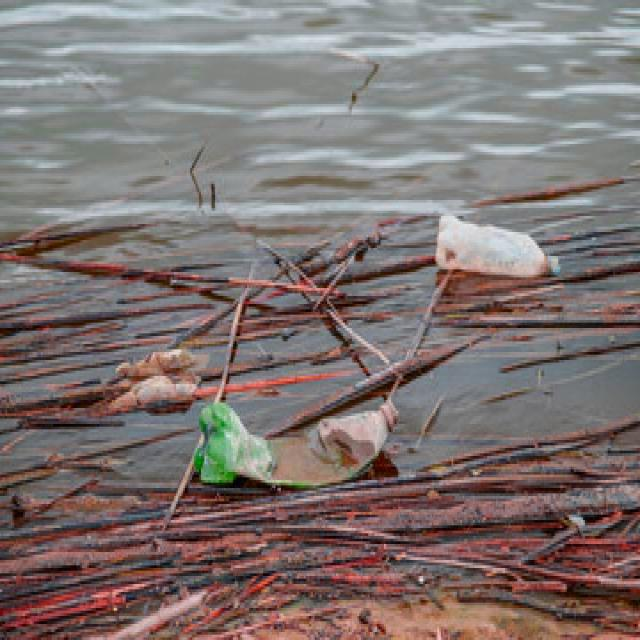Plastic: (193, 395, 410, 496), (430, 208, 565, 286)
Trash: (104, 336, 212, 415)
